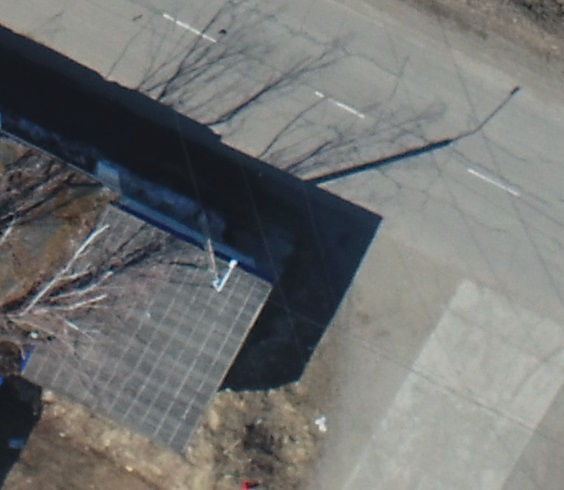opora: (201, 202, 239, 294)
